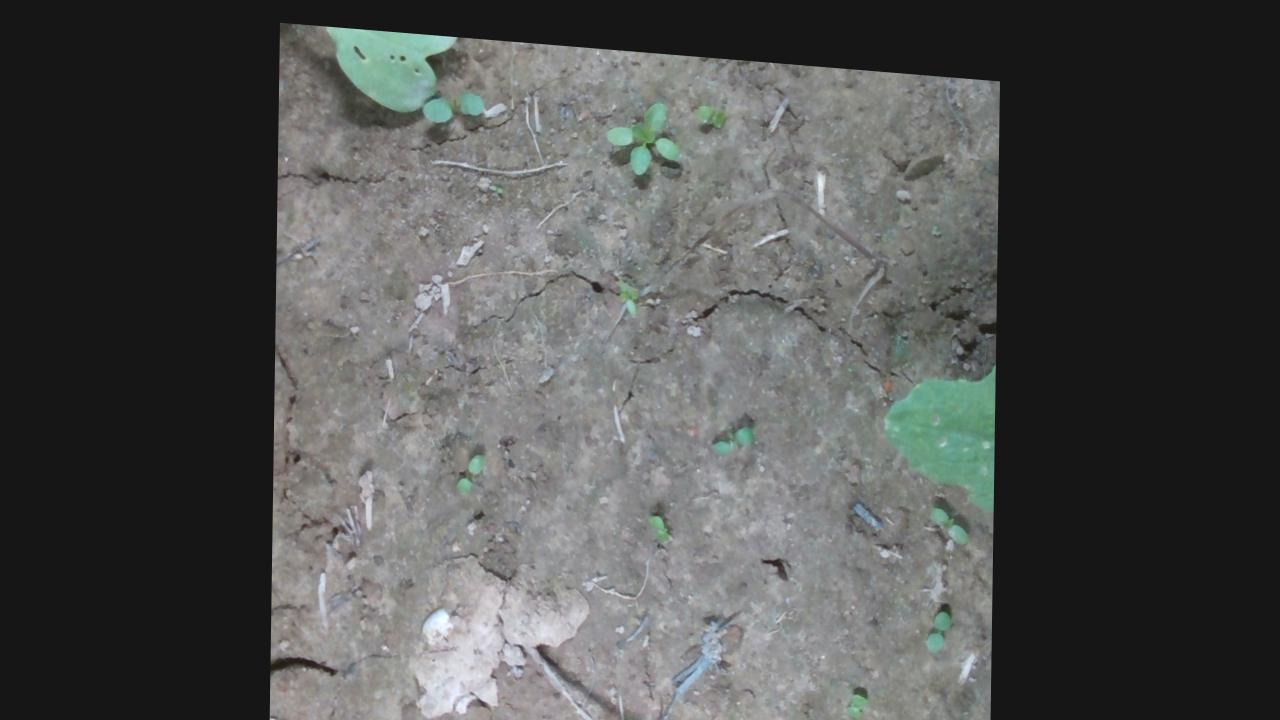weed: (456, 440, 487, 497)
